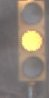Yellow: (9, 3, 46, 98)
